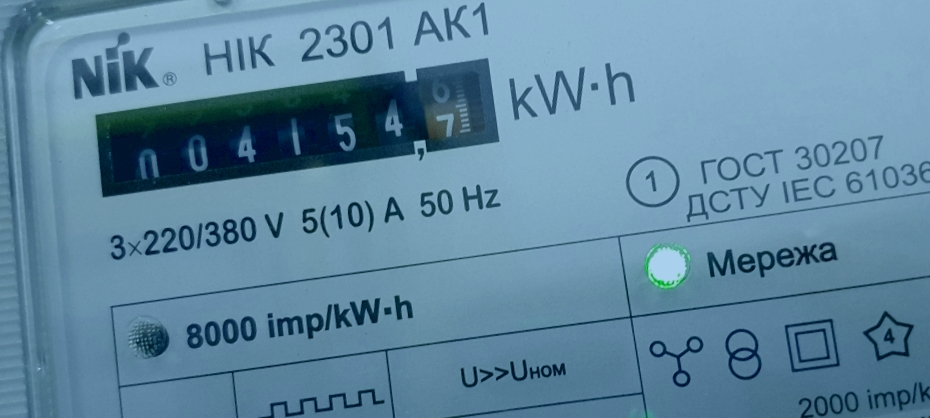0: (183, 130, 210, 174), (134, 142, 160, 179)
1: (285, 114, 304, 157)
4: (231, 121, 259, 165), (378, 93, 404, 139)
5: (330, 106, 360, 153)
6: (427, 72, 453, 104)
7: (432, 108, 457, 139)
screen: (73, 41, 518, 212)
